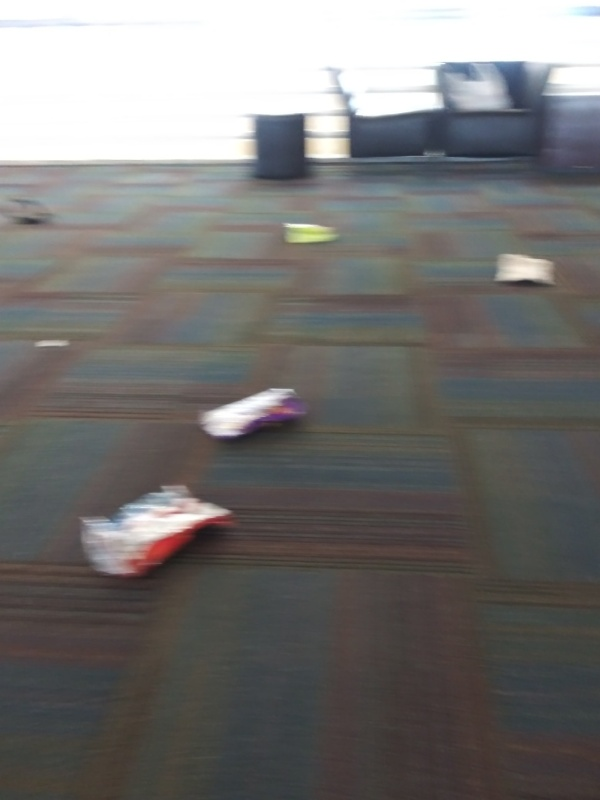bag: (75, 474, 240, 588), (193, 384, 313, 447), (490, 250, 563, 296), (277, 217, 342, 247)
